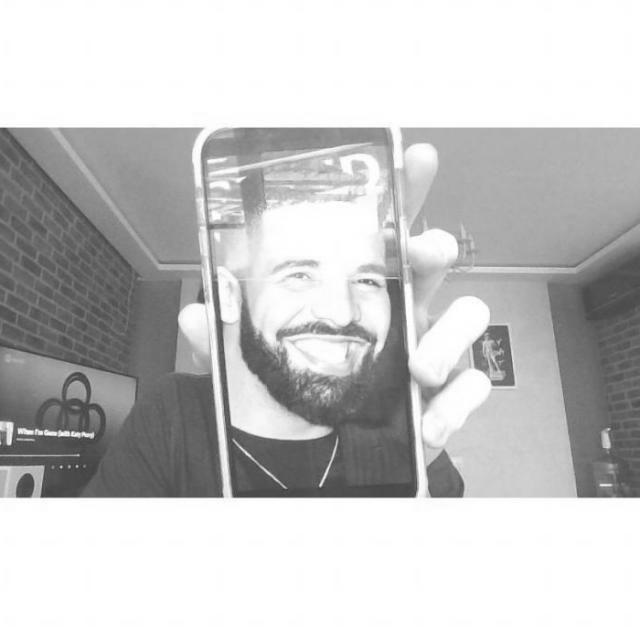fake: (188, 127, 446, 497)
